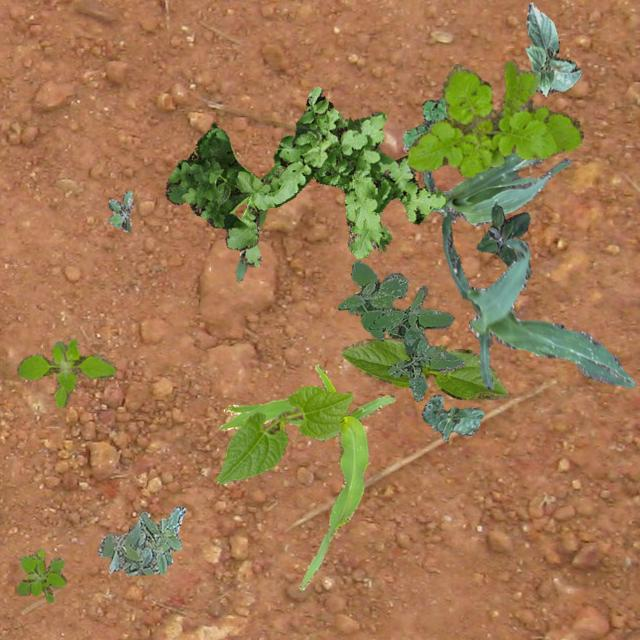crop: (218, 363, 394, 590), (440, 215, 634, 388), (215, 384, 352, 482), (422, 150, 570, 224), (341, 336, 508, 398), (524, 1, 580, 96), (420, 394, 482, 439), (234, 194, 266, 280)
weed: (238, 86, 446, 266), (406, 59, 582, 178), (336, 260, 464, 400), (164, 122, 288, 250), (15, 338, 114, 407), (96, 506, 184, 574), (476, 202, 530, 266), (15, 548, 66, 602), (402, 96, 449, 150), (108, 190, 132, 232)
